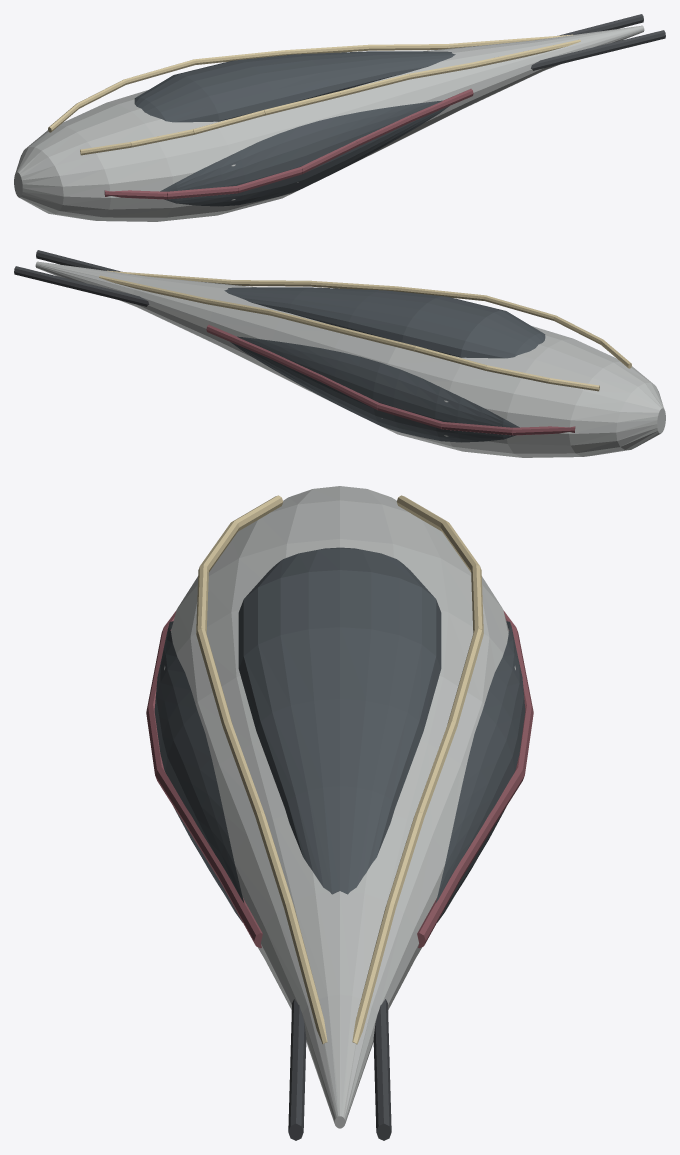
File: niruch_silver_off.glb
The picture shows the model from 3 angles, top to bottom: view 1: azimuth 30°, elevation 25°; view 2: azimuth 150°, elevation 25°; view 3: azimuth 270°, elevation 25°; orthographic projection. The views are drawn at different scales.
Visible parts, largest first — view 1: main_hull_0, canopy_2, side_window_1, golden_upper_rail_3, side_sweep_4, front_fork_5; view 2: main_hull_0, canopy_2, side_window_1, golden_upper_rail_3, side_sweep_4, front_fork_5; view 3: main_hull_0, canopy_2, side_window_1, golden_upper_rail_3, side_sweep_4, front_fork_5.
Part boxes in pixels (x1,y1,x2,y2): main_hull_0: (14,25,644,221); canopy_2: (134,51,455,122); side_window_1: (160,100,449,206); golden_upper_rail_3: (48,34,580,155); side_sweep_4: (104,88,473,199); front_fork_5: (531,14,665,70); main_hull_0: (35,261,665,457); canopy_2: (224,287,545,358); side_window_1: (230,336,519,442); golden_upper_rail_3: (99,270,631,391); side_sweep_4: (206,324,575,435); front_fork_5: (14,250,149,306); main_hull_0: (164,486,515,1128); canopy_2: (238,547,441,894); side_window_1: (154,621,525,922); golden_upper_rail_3: (196,495,483,1044); side_sweep_4: (146,610,533,948); front_fork_5: (288,999,391,1140).
Size of the model in its own units: 8.13 by 1.52 by 2.15.
